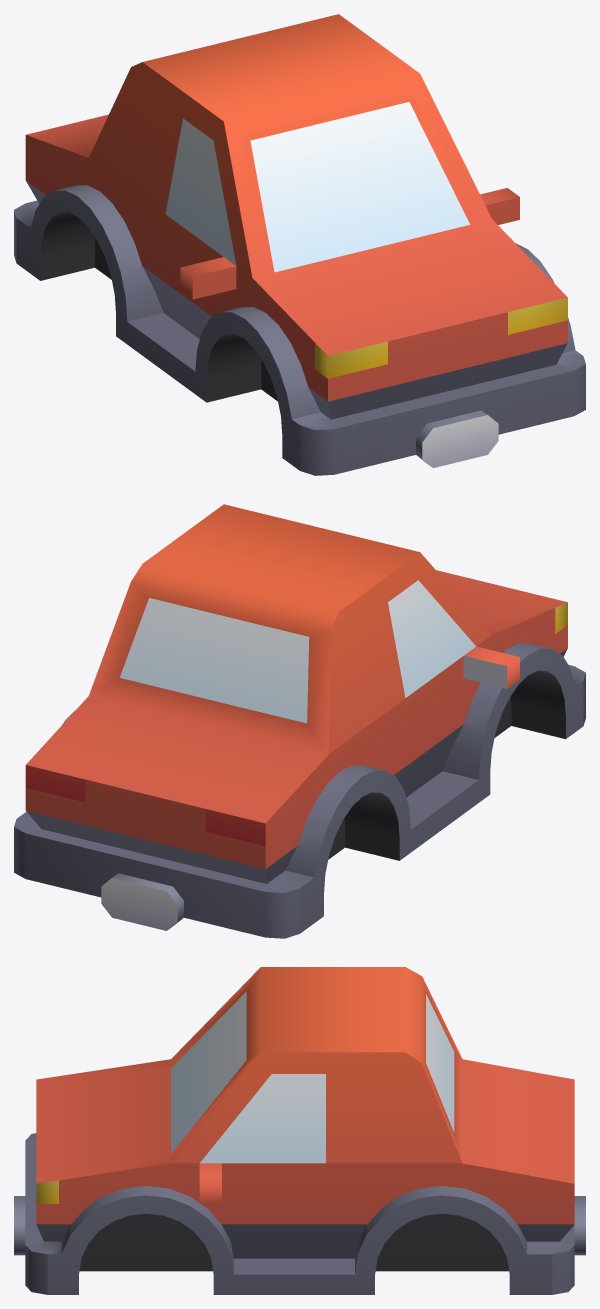
The model's file is sedan.glb.
3 renders of one model, top to bottom at view 1: azimuth 30°, elevation 25°; view 2: azimuth 150°, elevation 25°; view 3: azimuth 270°, elevation 25°, orthographic. The views are drawn at different scales.
Parts seen in each view (by area): view 1: body; view 2: body; view 3: body.
Part boxes in pixels (left/top/right/bottom): body: left=14, top=14, right=585, bottom=475; body: left=14, top=504, right=585, bottom=938; body: left=14, top=967, right=585, bottom=1294.
Bounding box in the file's own units: 1.5 × 1.15 × 2.55.
1 material, 1 textured.
